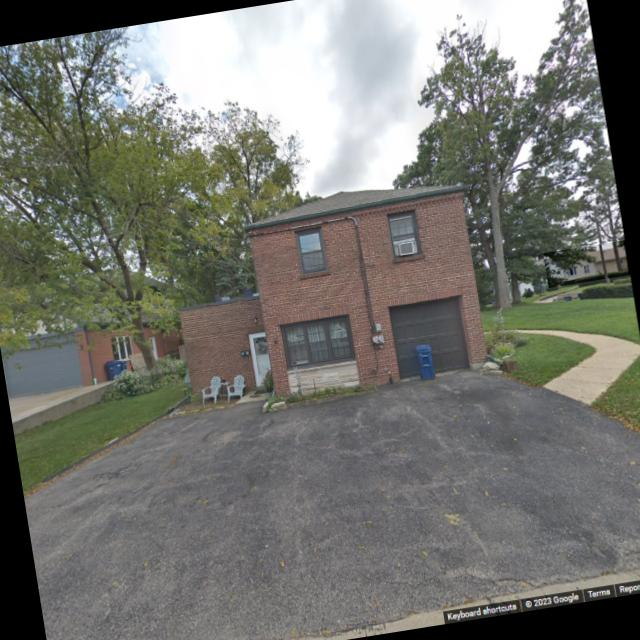House: (163, 170, 492, 417), (0, 262, 184, 398), (544, 240, 632, 288)
